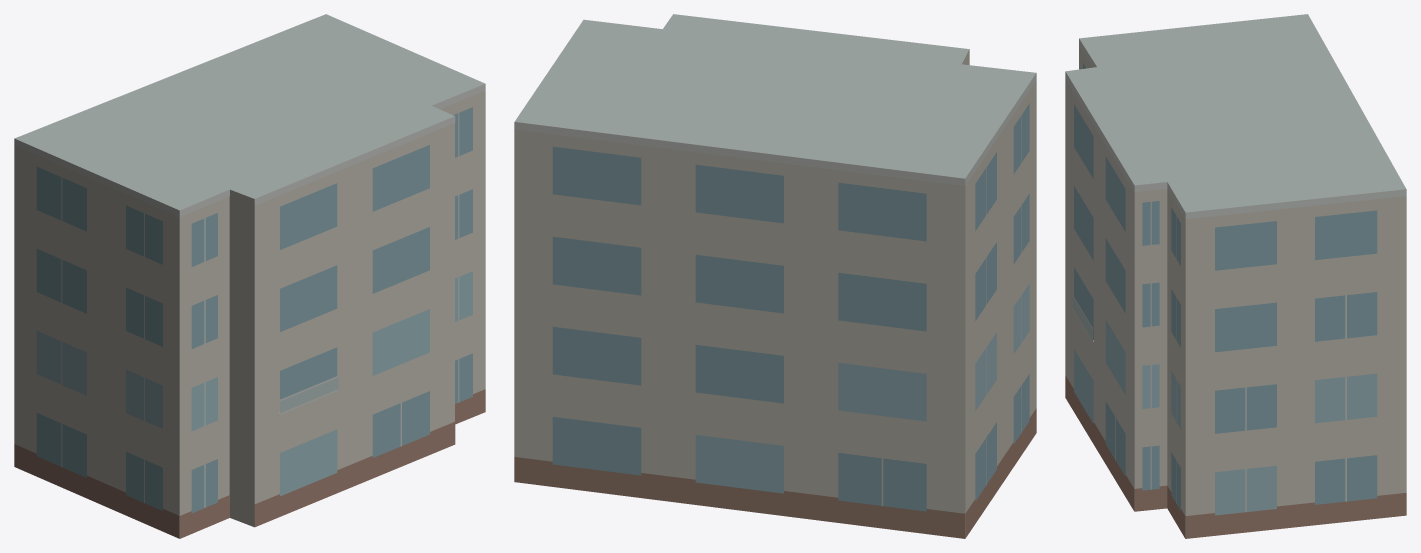
File: survey-upis-32623278.glb
The picture shows the model from 3 angles, left to right: view 1: azimuth 30°, elevation 25°; view 2: azimuth 150°, elevation 25°; view 3: azimuth 270°, elevation 25°; orthographic projection. The views are drawn at different scales.
Visible parts, largest first — view 1: survey-upis-32623278.tmp; view 2: survey-upis-32623278.tmp; view 3: survey-upis-32623278.tmp.
Part boxes in pixels (<box>): survey-upis-32623278.tmp: <box>14,14,485,538</box>; survey-upis-32623278.tmp: <box>514,14,1036,538</box>; survey-upis-32623278.tmp: <box>1065,14,1406,538</box>.
Bounding box in the file's own units: 15.41 × 11.8 × 11.19.
